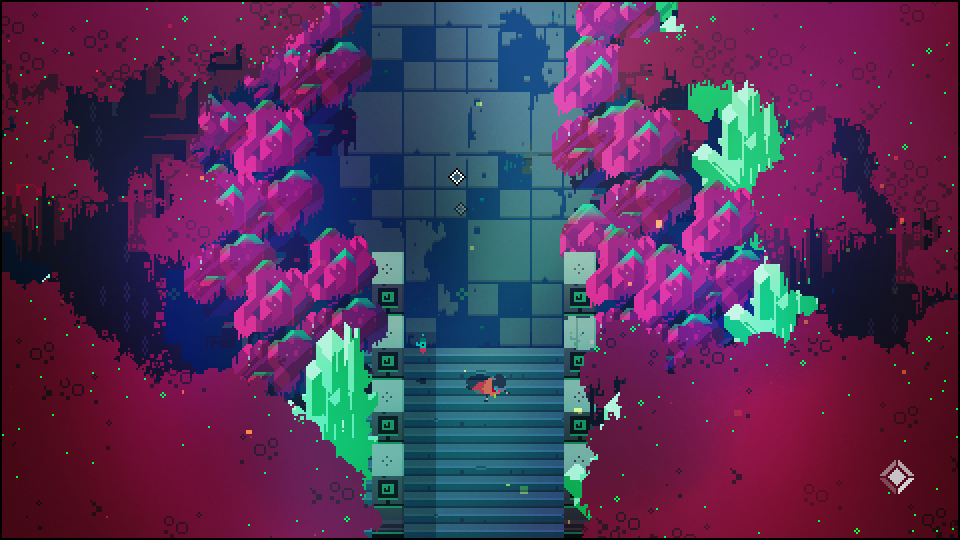player: (461, 374, 507, 401)
